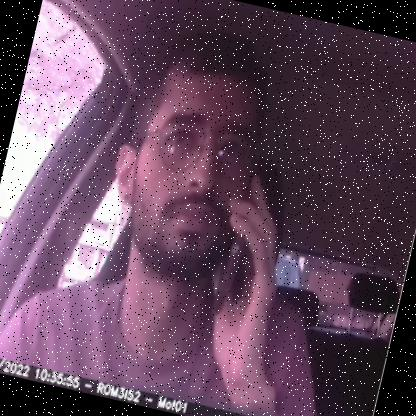phone: (198, 164, 284, 340)
